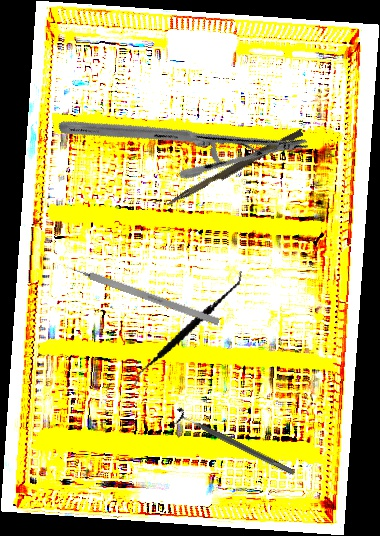Fixation Ring: (169, 405, 299, 483)
Hook Surgical: (57, 260, 221, 326)
Needle Holder: (57, 31, 310, 241)
Pusher: (165, 125, 304, 212)
Spatula Surgical: (132, 251, 243, 405)
